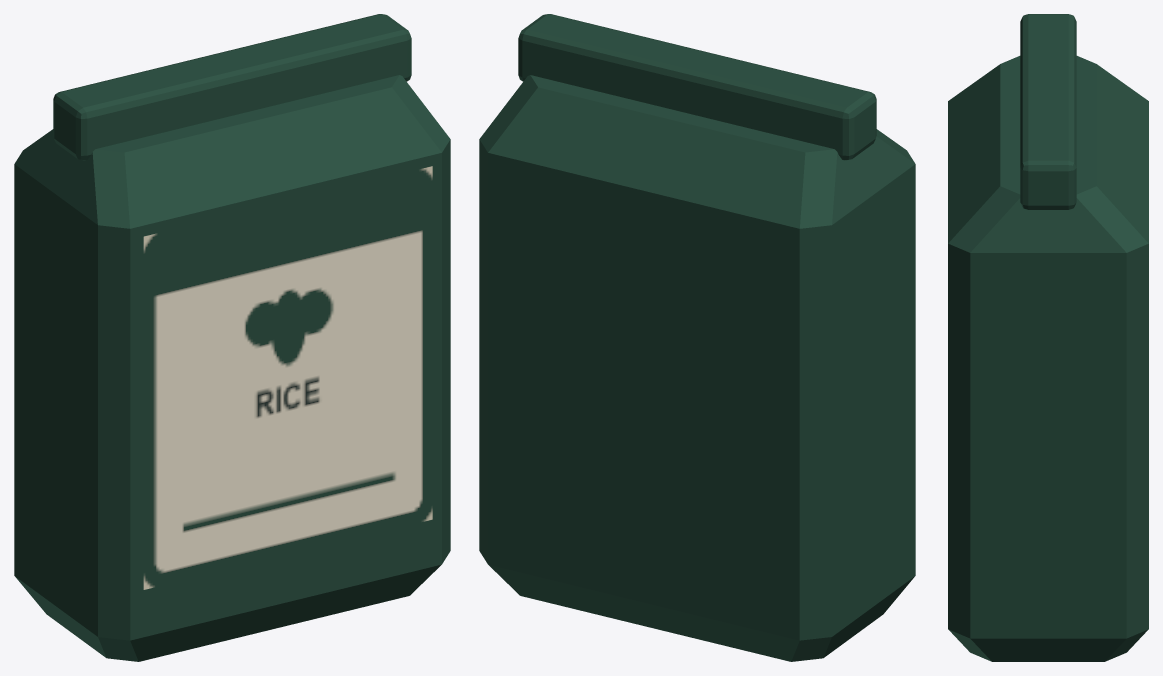
The model's file is rice.fbx.
3 views of the same model, side by side, from view 1: azimuth 30°, elevation 25°; view 2: azimuth 150°, elevation 25°; view 3: azimuth 270°, elevation 25° (orthographic). The views are drawn at different scales.
Parts seen in each view (by area): view 1: rice; view 2: rice; view 3: rice.
Part boxes in pixels (box(x1,y1,x2,y2)): rice: box(14, 14, 450, 661); rice: box(479, 14, 915, 661); rice: box(948, 14, 1148, 661).
Size of the model in its own units: 19 by 27.67 by 10.2.
